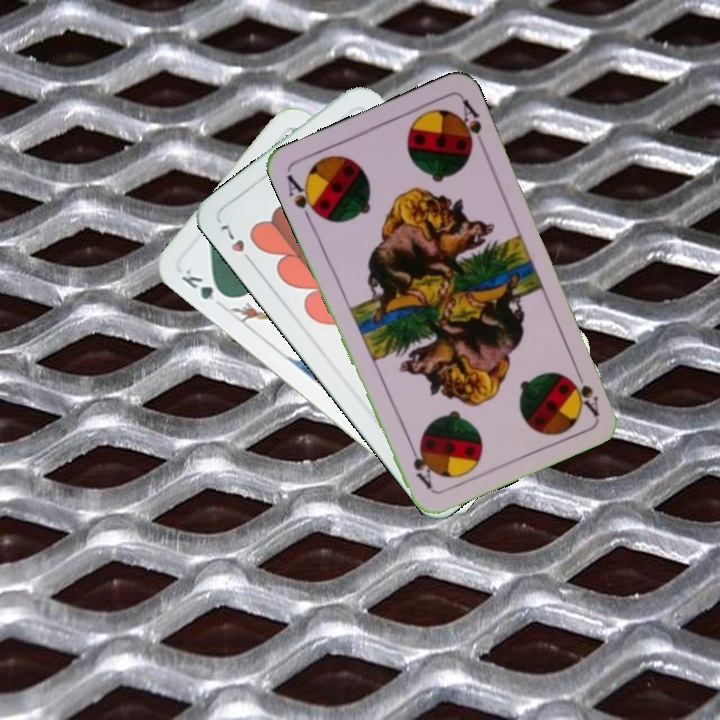GK: (177, 265, 231, 303)
H7: (215, 220, 257, 268)
SA: (282, 170, 324, 226), (567, 362, 602, 418)
